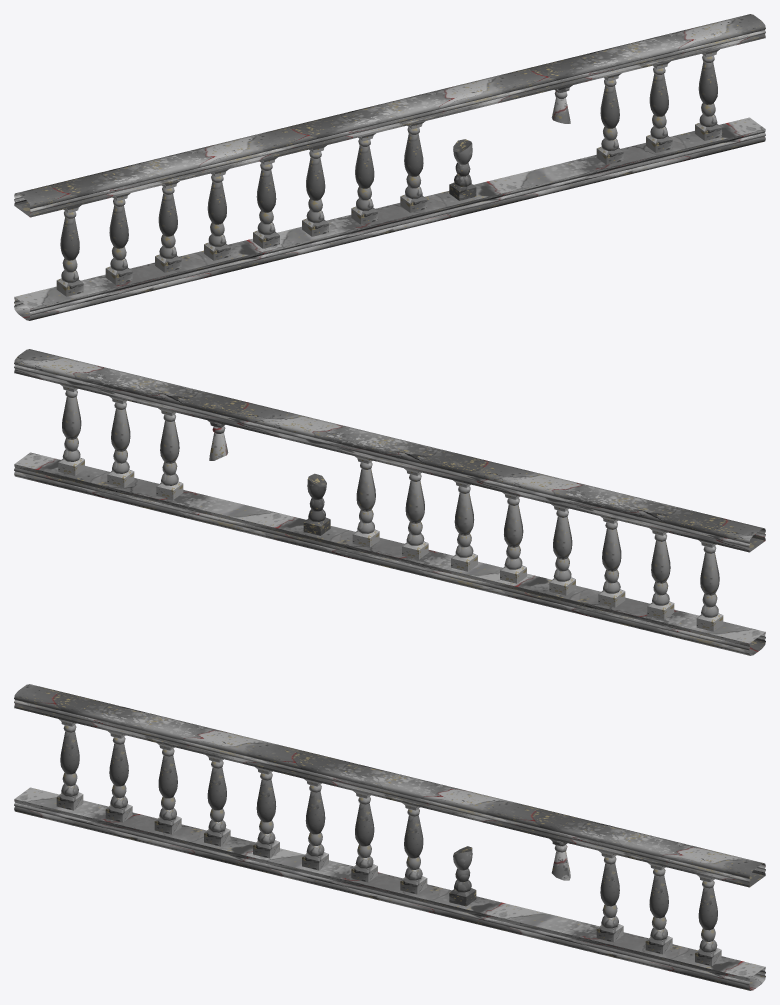
Rendered from Railing_9.fbx.
3 renders of one model, top to bottom at view 1: azimuth 30°, elevation 25°; view 2: azimuth 150°, elevation 25°; view 3: azimuth 330°, elevation 25°, orthographic.
Parts seen in each view (by area): view 1: Railing_9; view 2: Railing_9; view 3: Railing_9.
Boxes of the visible parts, x1,y1,x2,y2 form: Railing_9: (14,14,765,320); Railing_9: (14,349,765,655); Railing_9: (14,684,765,990).
Bounding box in the file's own units: 557 × 86.75 × 21.8.
